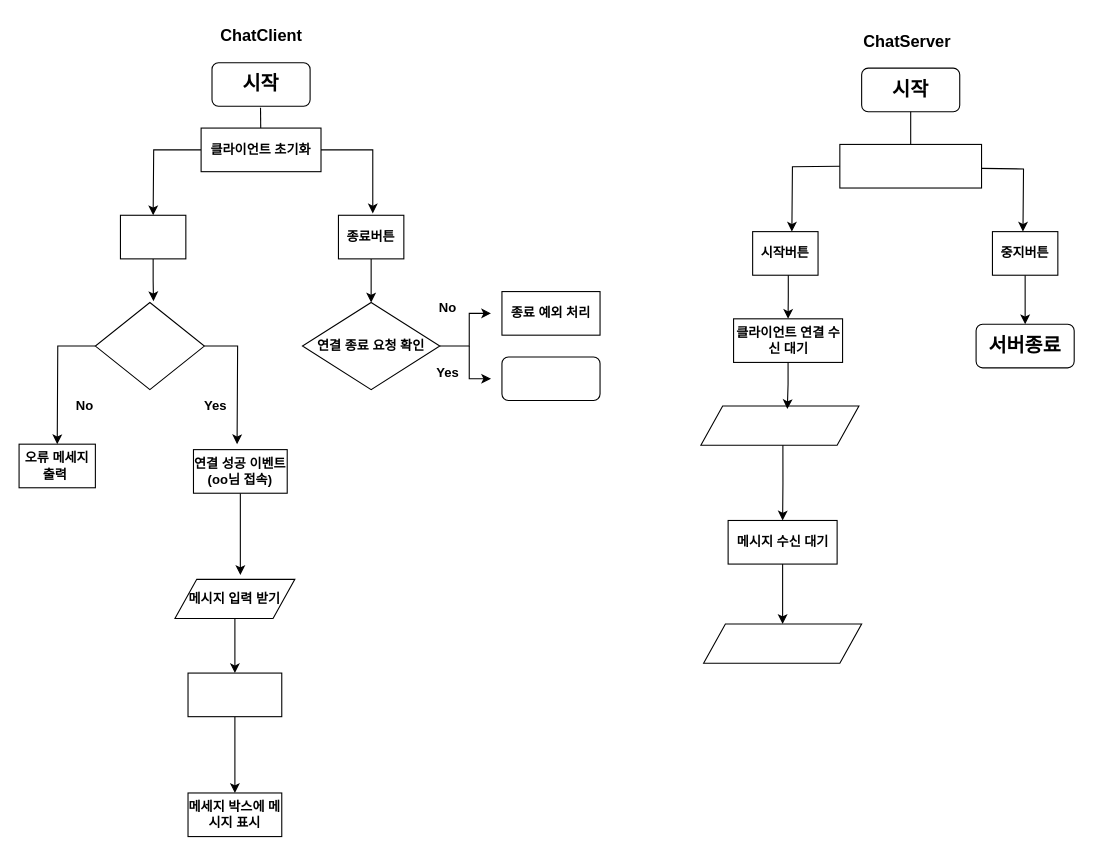
This 1093x856 diagram has some shape labels left out. Each missing label, with the centre of its shape:
"메시지 전송" belongs at point 234,694.
"서버 초기화 및 리스닝 시작" belongs at point 910,165.
"연결 성공 여부" belongs at point 149,345.
"연결버튼" belongs at point 152,236.
"종료" belongs at point 550,378.
"클라이언트 메시지 출력" belongs at point 782,643.
"클라이언트 접속 메시지 출력" belongs at point 779,425.
